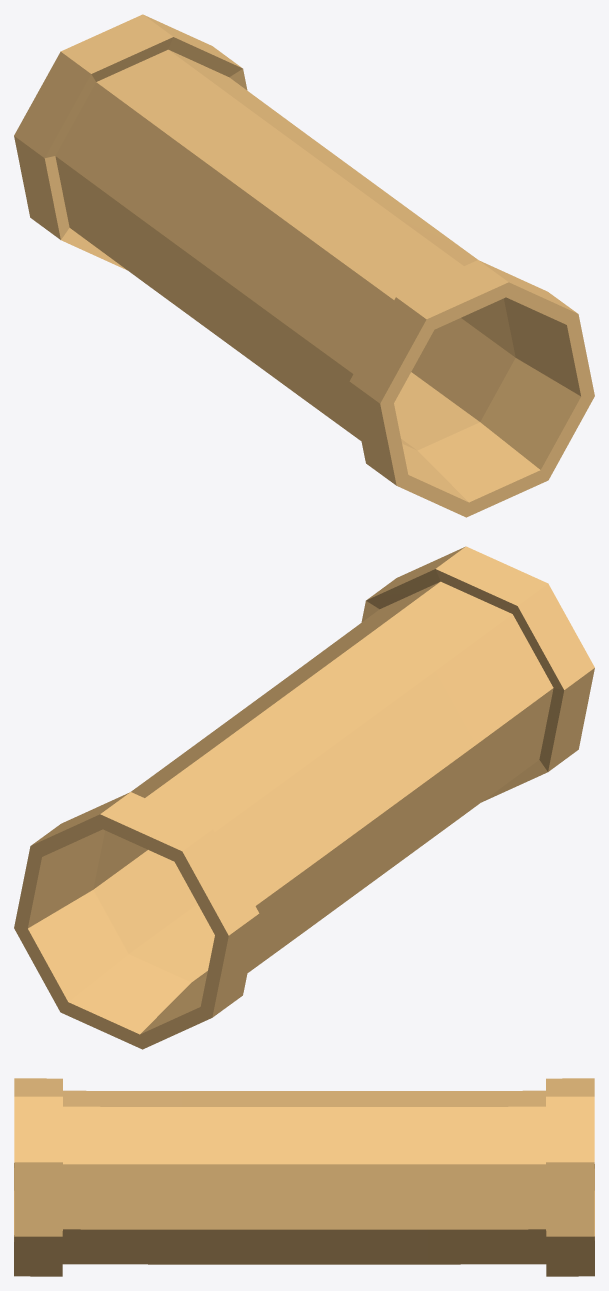
3 views of the same model, one above another, from view 1: azimuth 30°, elevation 25°; view 2: azimuth 150°, elevation 25°; view 3: azimuth 270°, elevation 25° (orthographic). The views are drawn at different scales.
Parts seen in each view (by area): view 1: PM3D_Cylinder3D_25; view 2: PM3D_Cylinder3D_25; view 3: PM3D_Cylinder3D_25.
Boxes of the visible parts, left/top/right/bottom form: PM3D_Cylinder3D_25: left=14, top=14, right=594, bottom=517; PM3D_Cylinder3D_25: left=14, top=546, right=594, bottom=1049; PM3D_Cylinder3D_25: left=14, top=1078, right=594, bottom=1276.
Bounding box in the file's own units: 0.6846 × 0.685 × 2.02.
